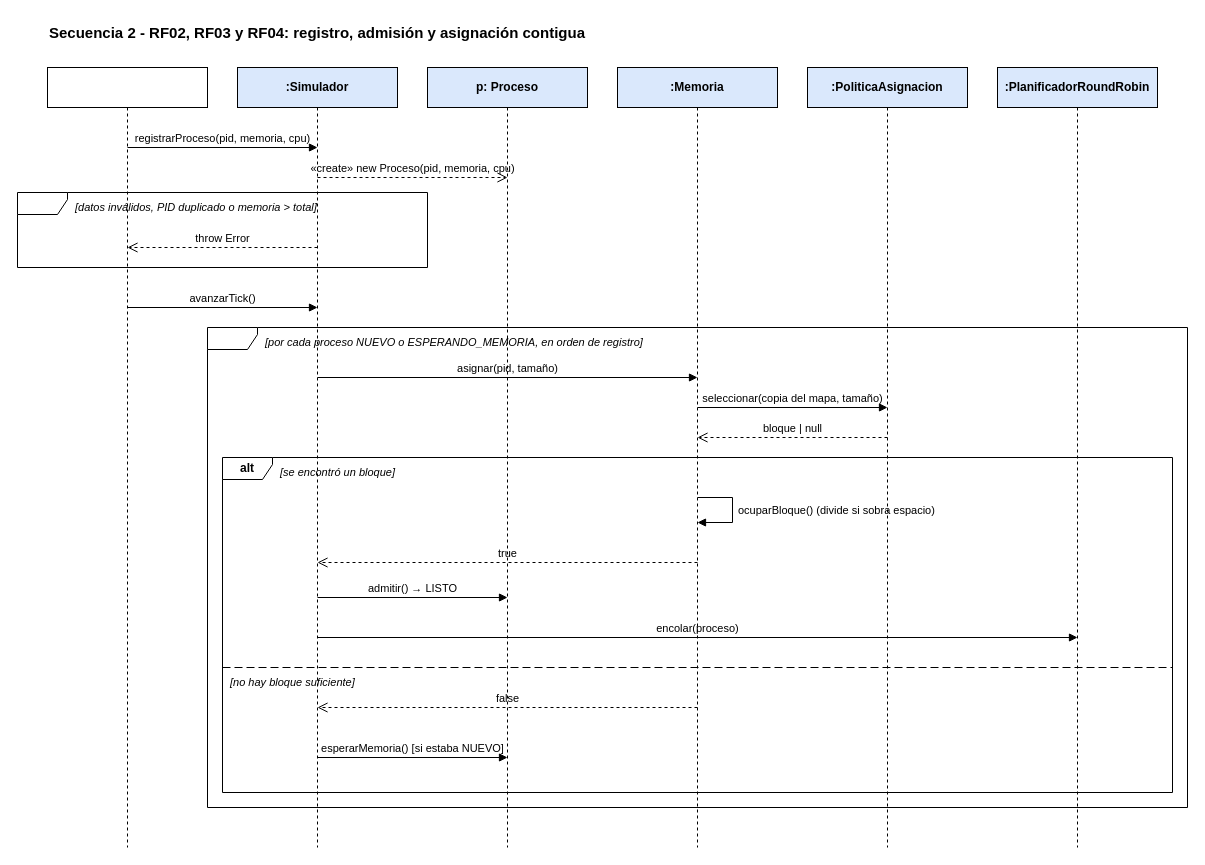
This 1205x865 diagram has some shape labels left out. The shapes that lost their labels are listed below. From the top down, each one's box as (x1, y1, x2, y2) in pixels, then its label:
(16, 192, 428, 268): opt
(46, 66, 208, 848): :Test
(206, 326, 1188, 808): loop
